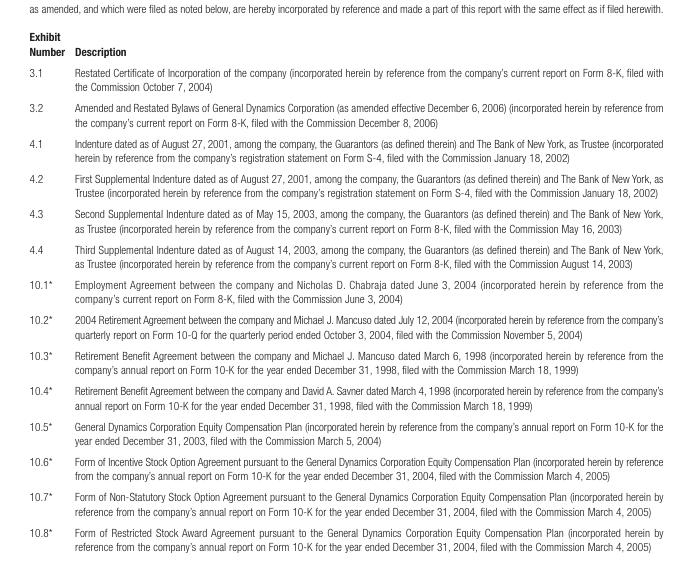table: (28, 29, 662, 552)
table column: (68, 29, 662, 552), (28, 29, 68, 552)
table column header: (28, 29, 662, 61)
table row: (28, 96, 662, 132), (28, 202, 662, 238), (28, 308, 662, 344), (28, 414, 662, 450), (28, 61, 662, 96), (28, 132, 662, 167), (28, 167, 662, 202), (28, 238, 662, 273), (28, 273, 662, 308), (28, 344, 662, 379), (28, 379, 662, 414), (28, 450, 662, 485), (28, 485, 662, 520), (28, 29, 662, 61), (28, 520, 662, 552)
